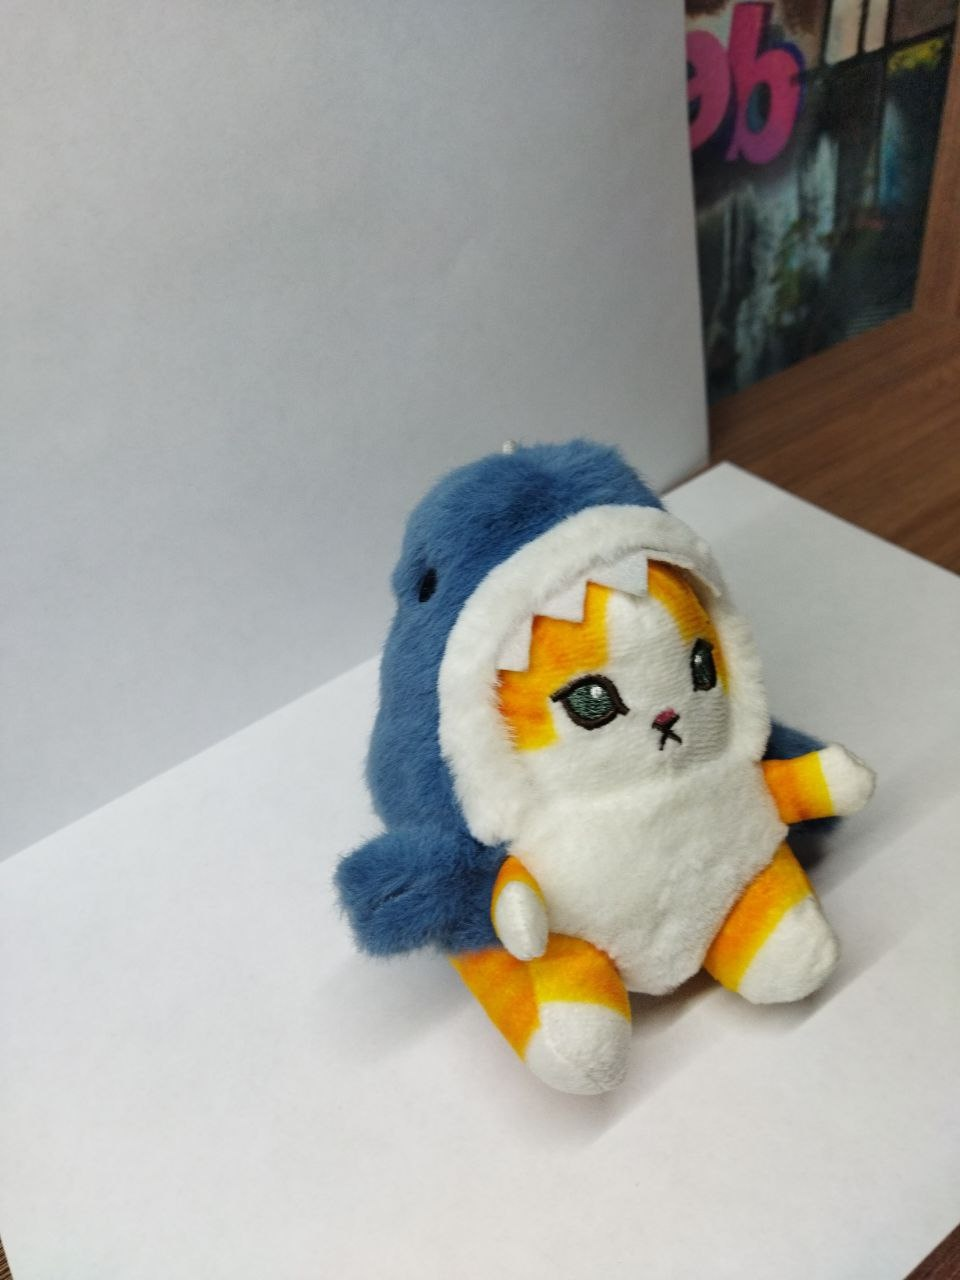Snark Cat: (319, 437, 880, 1087)
